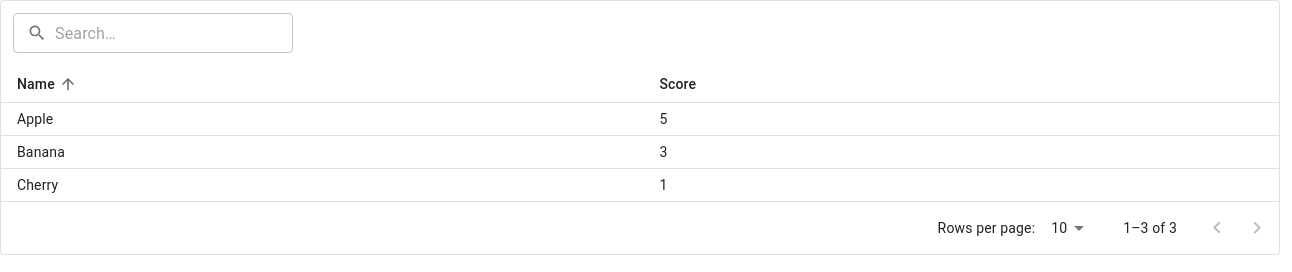
Scenario: DataTable › shows an empty state when search matches nothing
In the field with placeholder "Search…": (174, 33) [55,13,293,53], type "zzz"
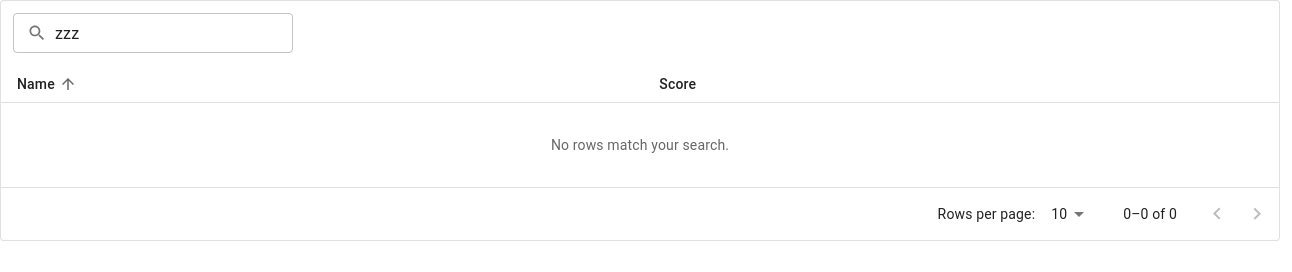
Expected: the text "No rows match your search." is shown, [1,103,1279,188]
